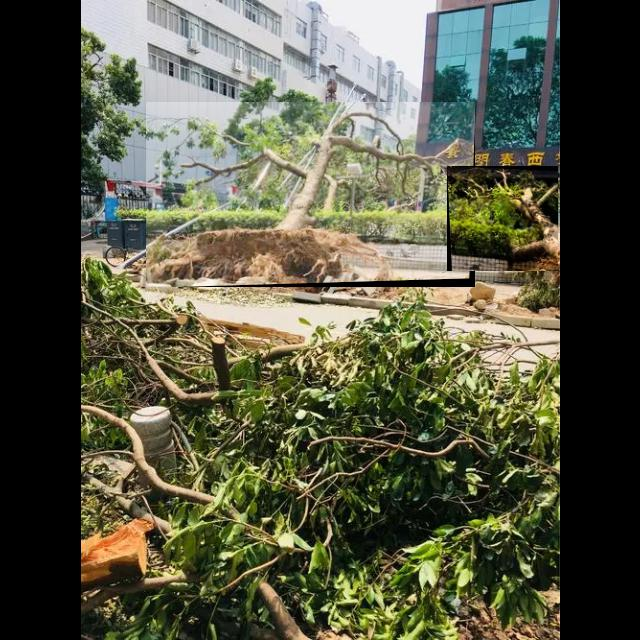Fallen Tree: (146, 102, 476, 288), (447, 166, 559, 272)
